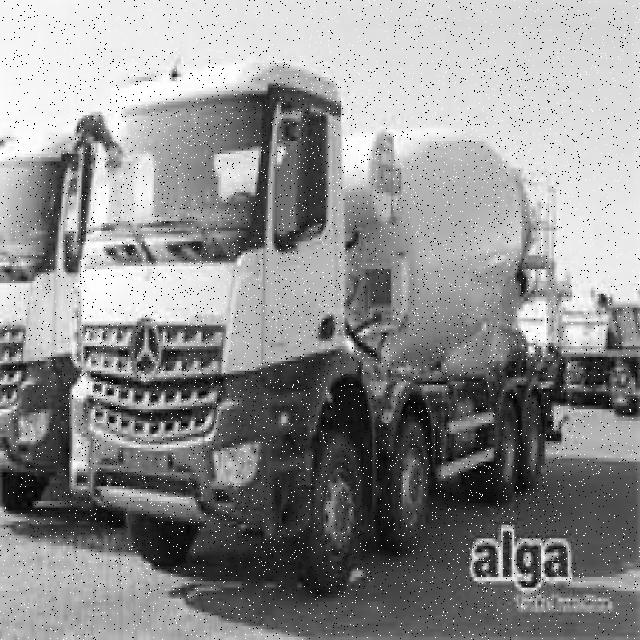Concrete Mixer: (67, 59, 573, 594)
